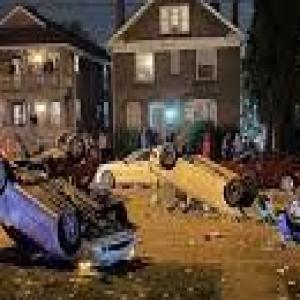critical: (147, 133, 271, 226)
fatal: (0, 151, 138, 272)
